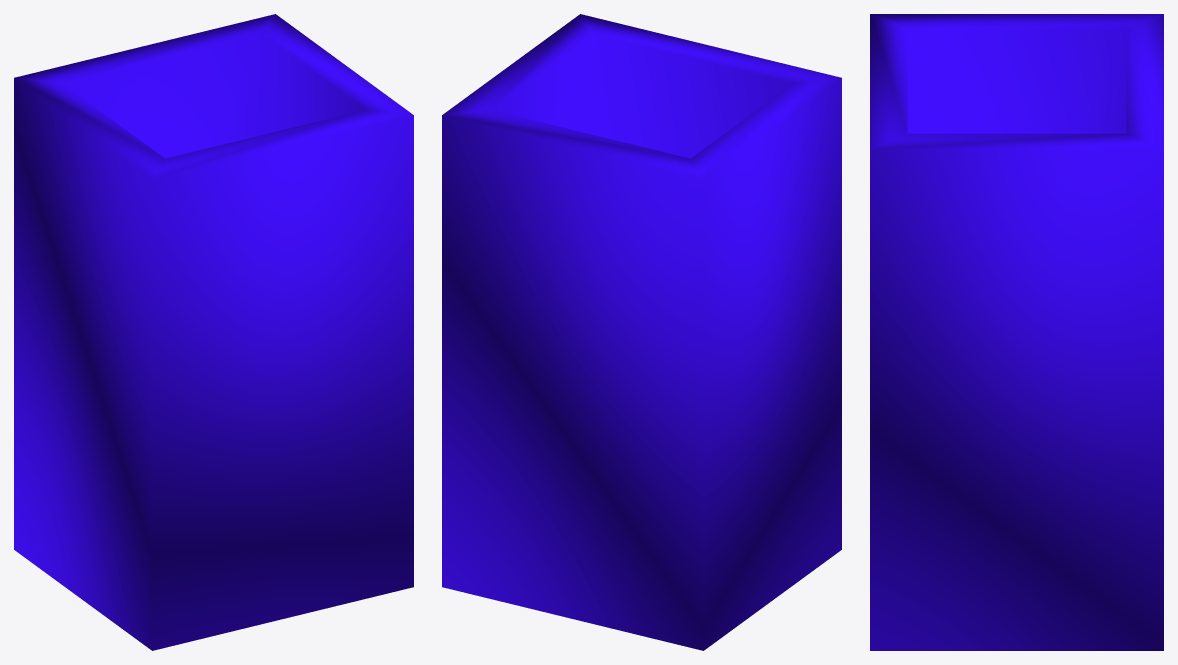
Rendered from office_pack_pencilHolder_square_1_meshCollider.fbx.
The picture shows the model from 3 angles, left to right: view 1: azimuth 30°, elevation 25°; view 2: azimuth 150°, elevation 25°; view 3: azimuth 270°, elevation 25°; orthographic projection. The views are drawn at different scales.
Visible parts, largest first — view 1: office_pack_pencilHolder_square_1_meshCollider; view 2: office_pack_pencilHolder_square_1_meshCollider; view 3: office_pack_pencilHolder_square_1_meshCollider.
Part boxes in pixels (x1=…): office_pack_pencilHolder_square_1_meshCollider: x1=14, y1=14, x2=413, y2=650; office_pack_pencilHolder_square_1_meshCollider: x1=442, y1=14, x2=841, y2=650; office_pack_pencilHolder_square_1_meshCollider: x1=870, y1=14, x2=1163, y2=650.
Size of the model in its own units: 8.53 by 14.7 by 7.81.
